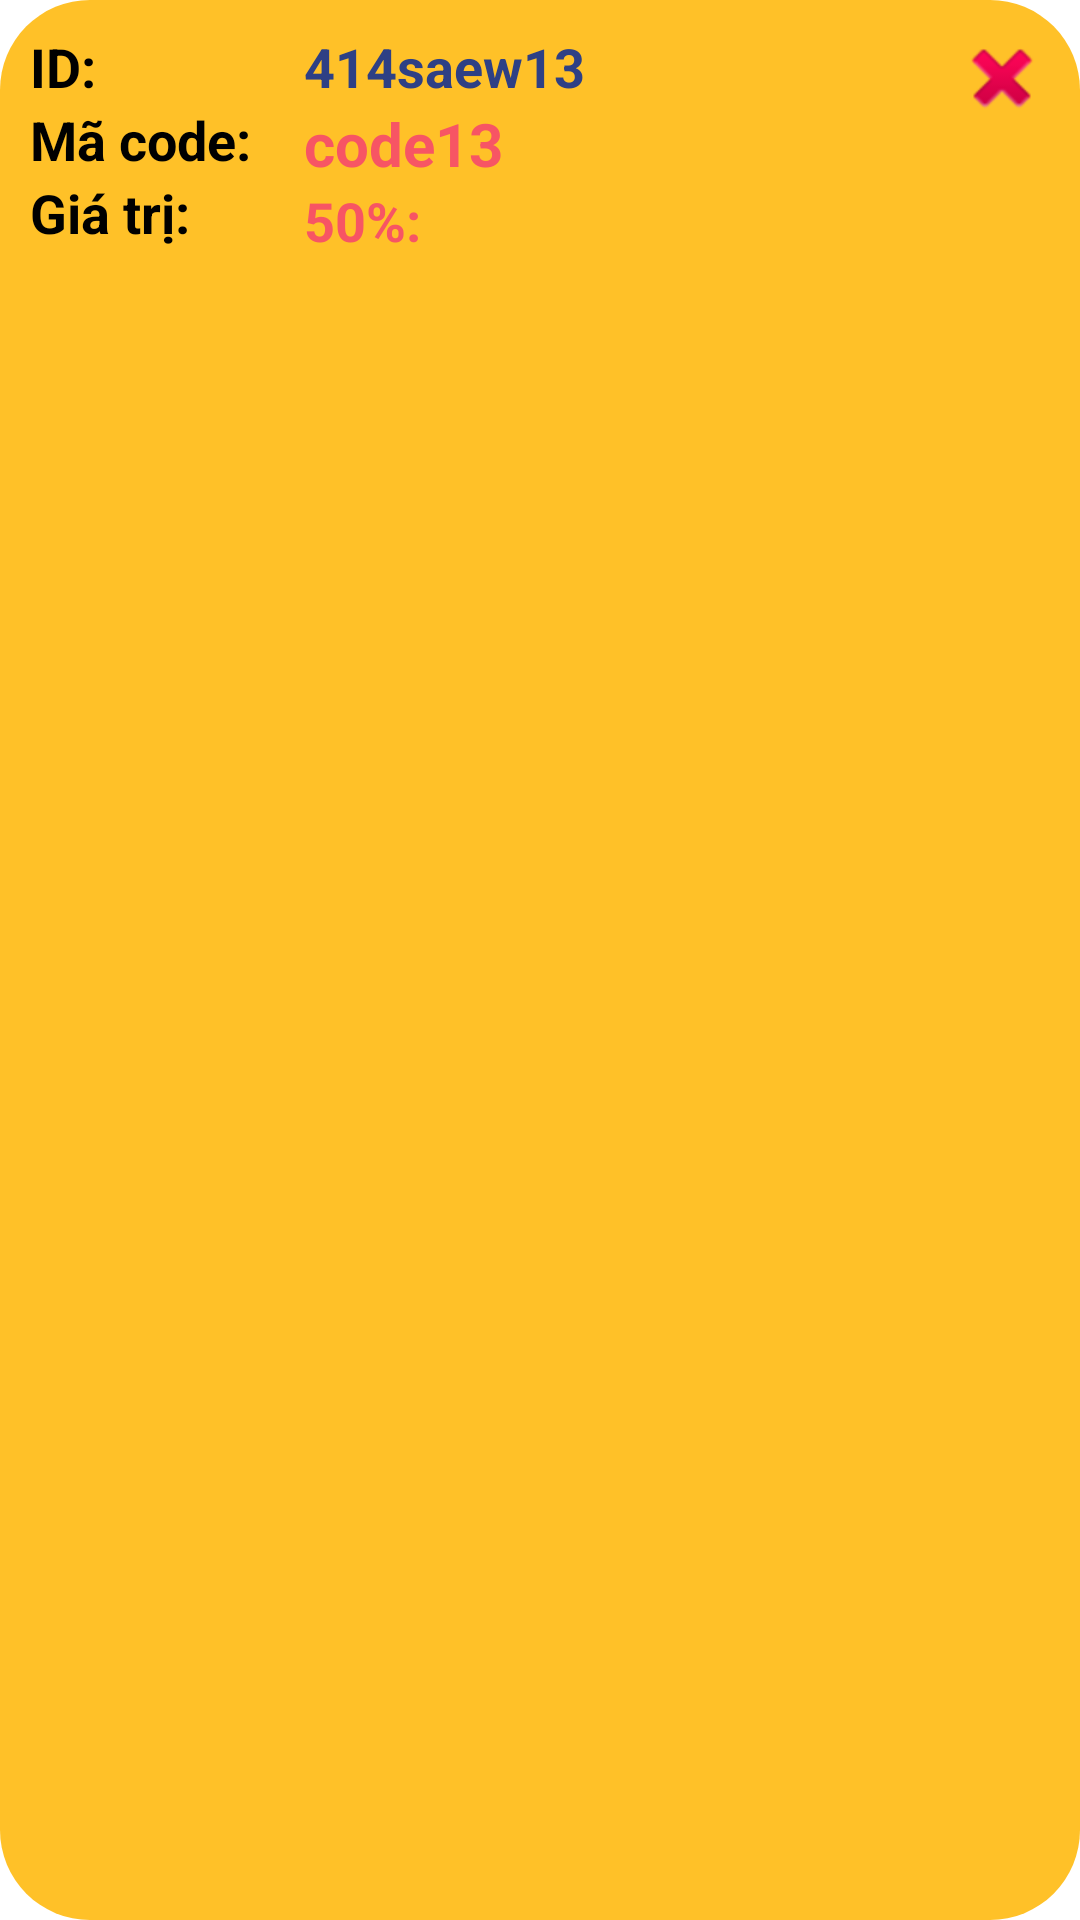

Where icons sit on this 1080px×1920px app screen, as [x1=x1, y1=y1, x2=x2, y2=y2]:
delete: [x1=972, y1=49, x2=1032, y2=108]
